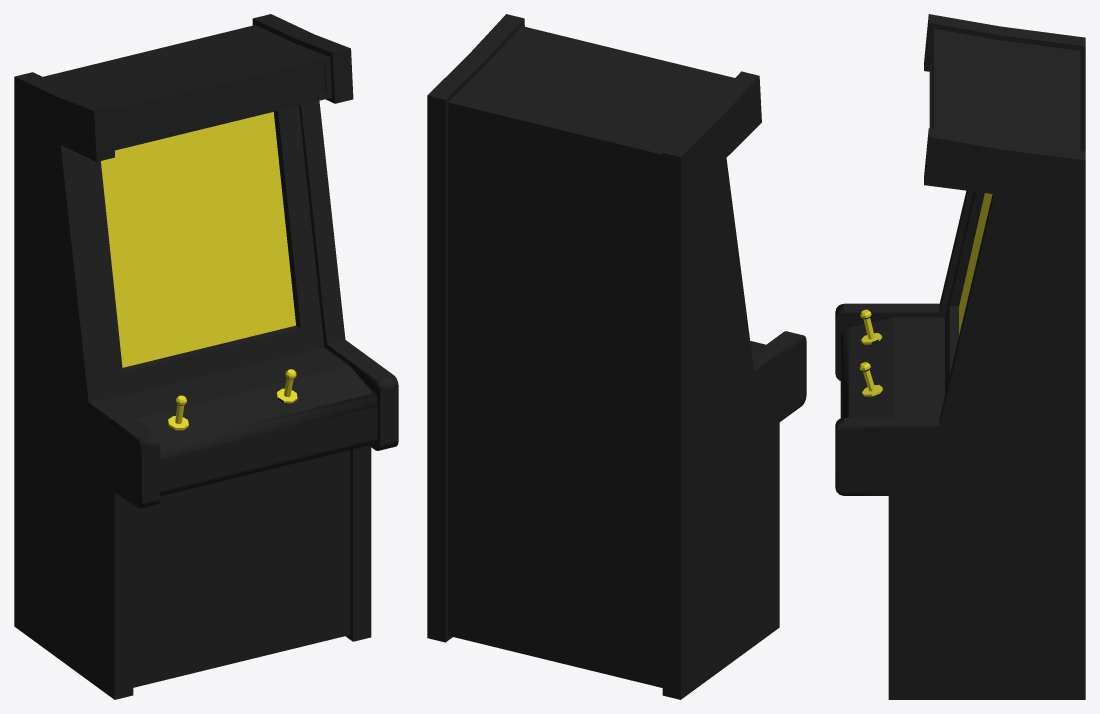
Rendered from Arcade.glb.
3 views of the same model, side by side, from view 1: azimuth 30°, elevation 25°; view 2: azimuth 150°, elevation 25°; view 3: azimuth 270°, elevation 25° (orthographic).
Parts seen in each view (by area): view 1: game_consol_2; view 2: game_consol_2; view 3: game_consol_2.
Part boxes in pixels (x1=…): game_consol_2: x1=14, y1=14, x2=398, y2=699; game_consol_2: x1=427, y1=14, x2=806, y2=699; game_consol_2: x1=835, y1=14, x2=1085, y2=699.
Size of the model in its own units: 0.3337 by 0.7128 by 0.2872.
